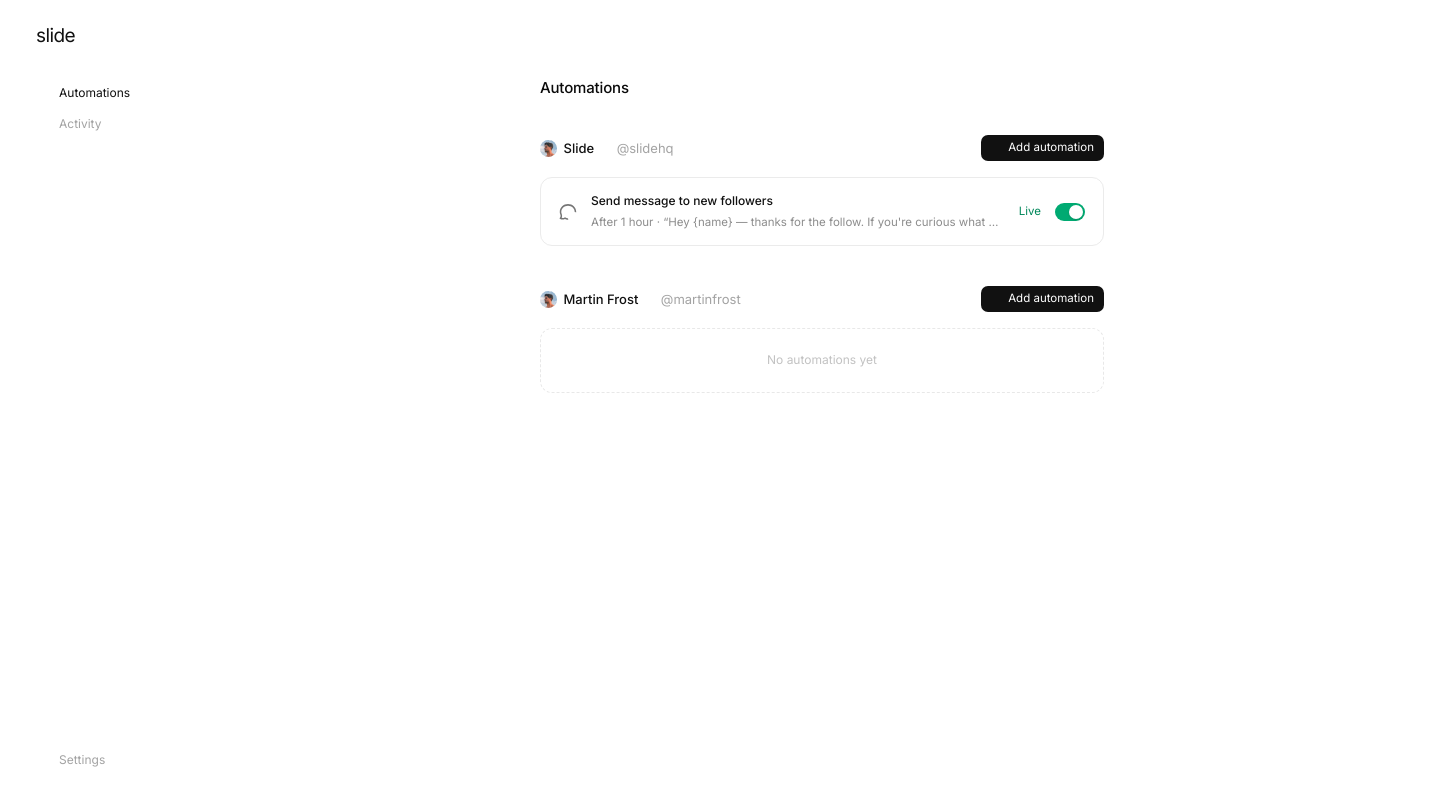
App › lists the seeded automation and opens the type picker
Expected: the heading "Automations" is shown, 540,78 -> 629,97
Expected: the text "Send message to new followers" is shown, 591,193 -> 773,208
What coordinates should you click on to do the following:
click the button "Add automation" in the row of "@slidehq"
I would click on:
 (1043, 148)
Its box is 981,135 -> 1104,161.
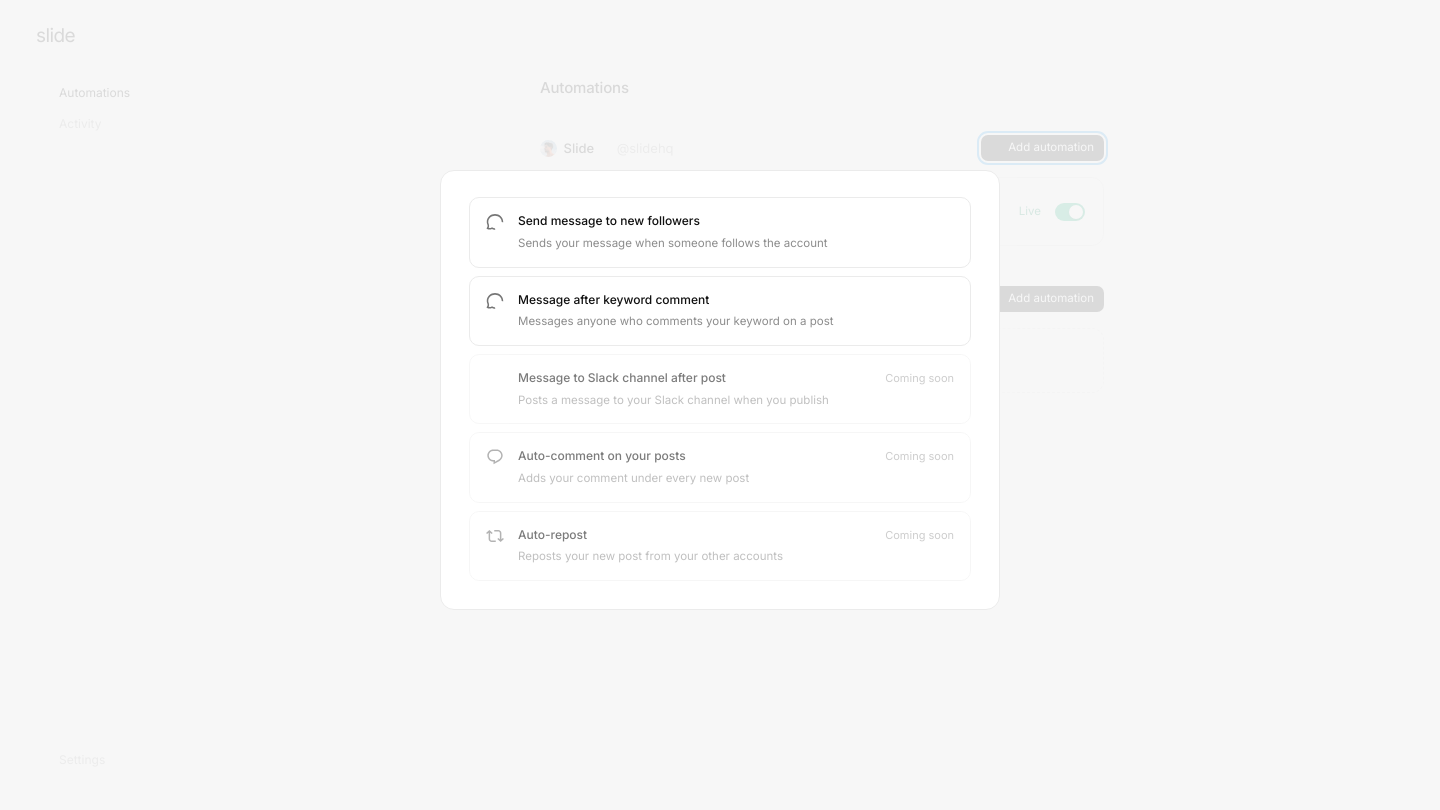
Now the dialog named "Choose an automation" is shown, box 440,170 -> 1000,610
What coordinates should you click on to do the following:
click the button "Message after keyword comment"
I would click on:
 (614, 299)
Its box is 469,276 -> 971,346.
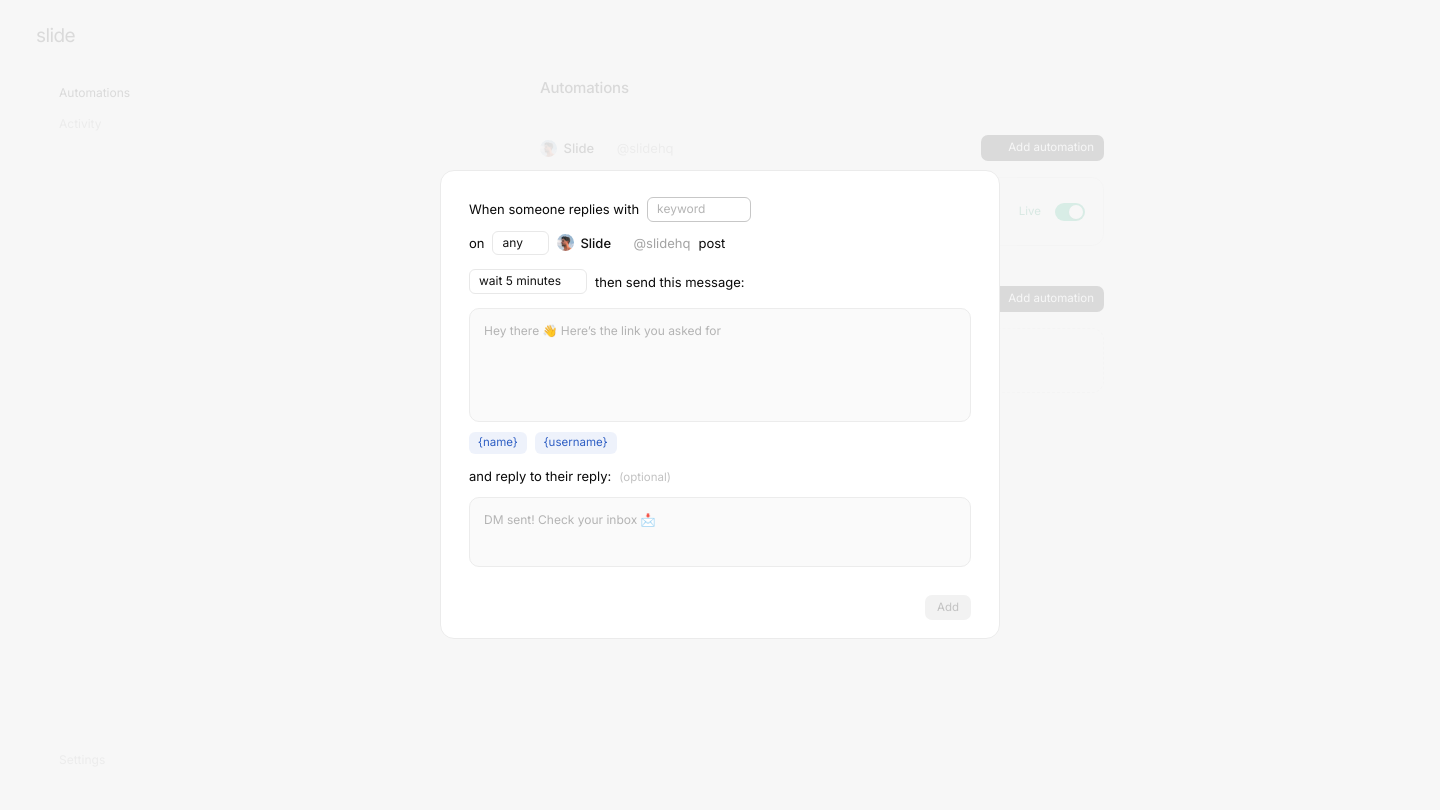
Now the button "Add" is disabled, box 925,594 -> 971,620
Now the dialog named "Configure automation" is shown, box 440,170 -> 1000,639
Now the text "When someone replies with" is shown, box 469,199 -> 639,219
